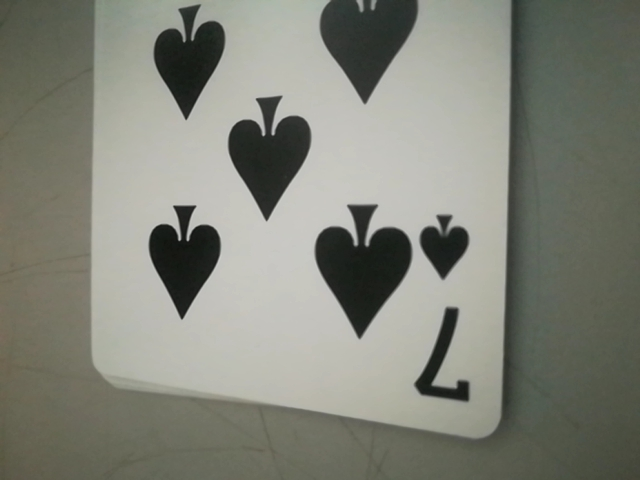ht 7: (411, 372, 482, 417)
